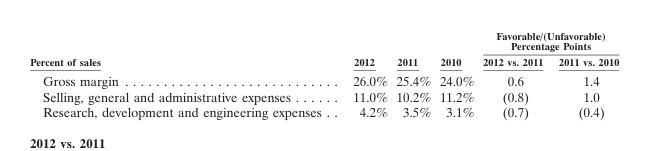table: (29, 28, 618, 119)
table column: (29, 28, 336, 119), (477, 28, 550, 119), (550, 28, 618, 119), (336, 28, 391, 119), (391, 28, 434, 119), (434, 28, 477, 119)
table column header: (29, 28, 618, 69)
table row: (29, 28, 618, 53), (29, 69, 618, 88), (29, 53, 618, 69), (29, 103, 618, 119), (29, 88, 618, 103)
table spanning cell: (29, 28, 336, 69), (477, 28, 618, 53), (336, 28, 391, 69), (391, 28, 434, 69), (434, 28, 477, 69)
